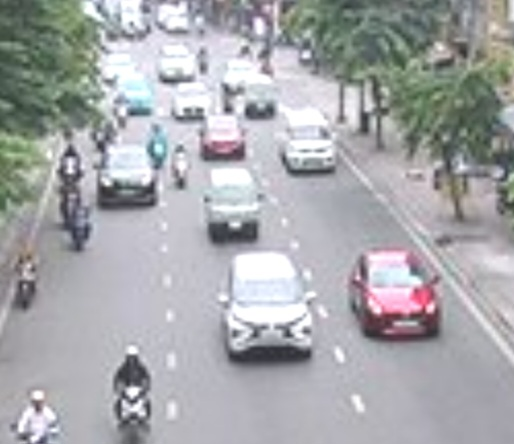car: (220, 252, 314, 359), (349, 247, 444, 341), (206, 166, 261, 243), (279, 105, 339, 174), (99, 142, 159, 208), (200, 115, 246, 159)
